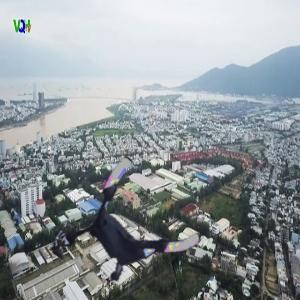drone: (72, 172, 196, 296)
